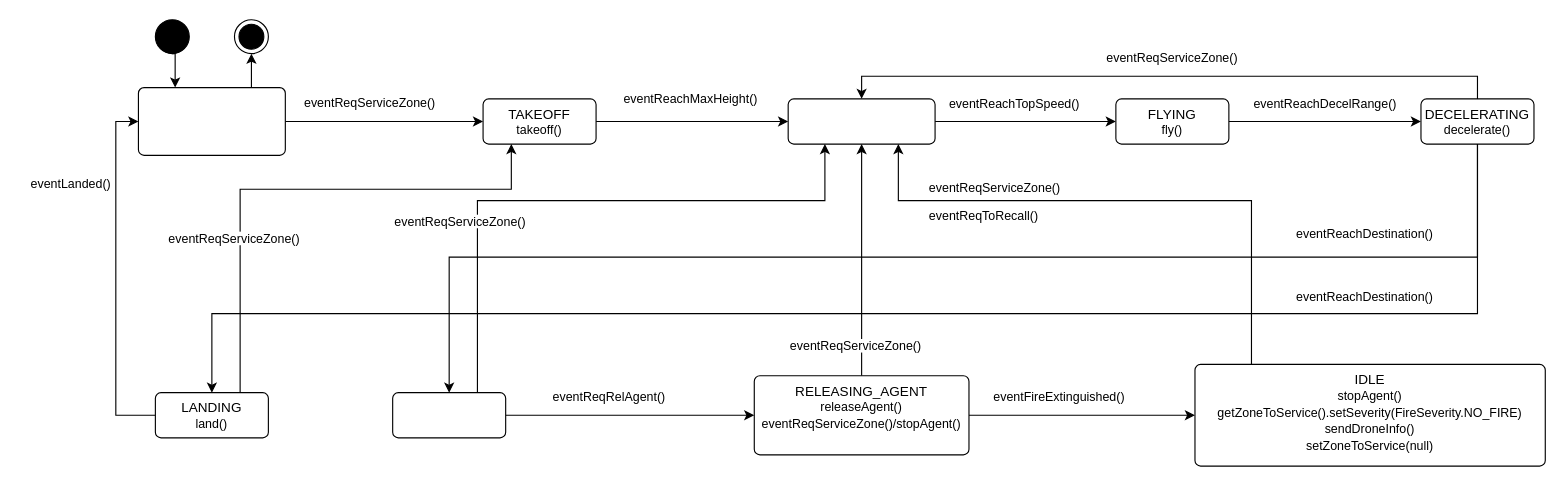
Image size: 1565x486. Some labels were removed from this diagram. The centre of each missing label's shape, as x and y in pixels:
ACCELERATING accelerate(): (861,121)
ARRIVED sendDroneInfo(): (449,415)
BASE refillAgentTank() sendDroneInfo(): (211,120)
